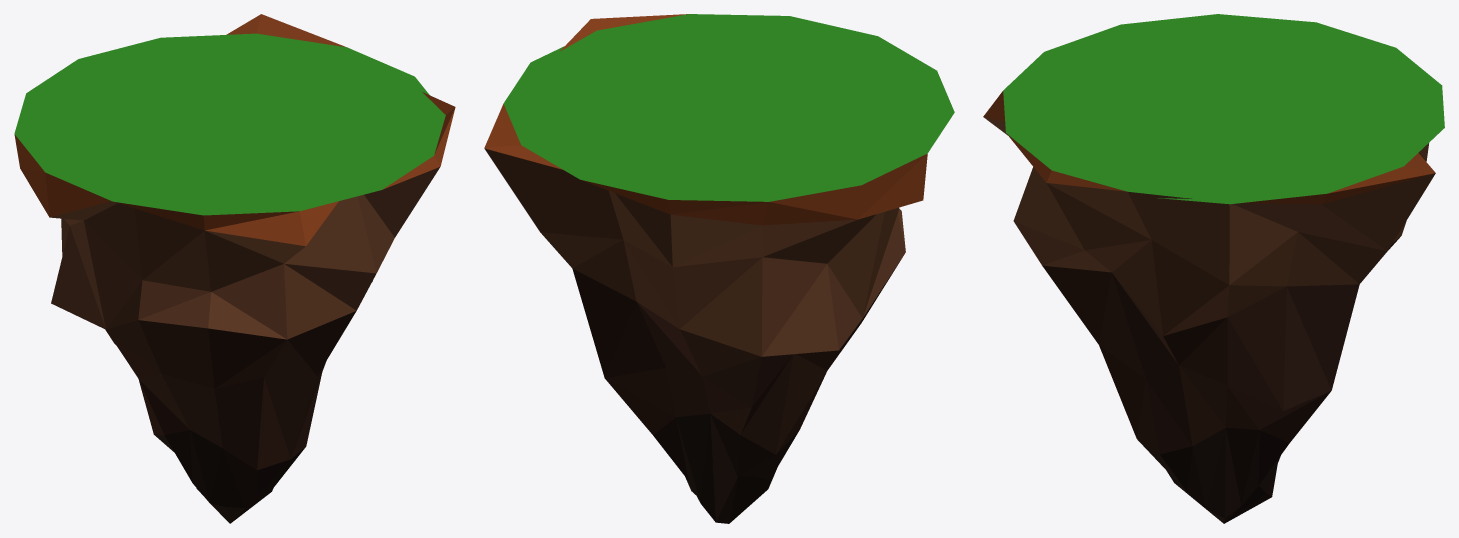
File: SM_Rock_B.fbx
3 renders of one model, left to right at view 1: azimuth 30°, elevation 25°; view 2: azimuth 150°, elevation 25°; view 3: azimuth 270°, elevation 25°, orthographic. The views are drawn at different scales.
Visible parts, largest first — view 1: SM_Rock_B; view 2: SM_Rock_B; view 3: SM_Rock_B.
Boxes of the visible parts, x1,y1,x2,y2 form: SM_Rock_B: (14, 14, 455, 523); SM_Rock_B: (484, 14, 954, 523); SM_Rock_B: (983, 14, 1444, 523).
Size of the model in its own units: 6.2 by 6.36 by 6.42.
